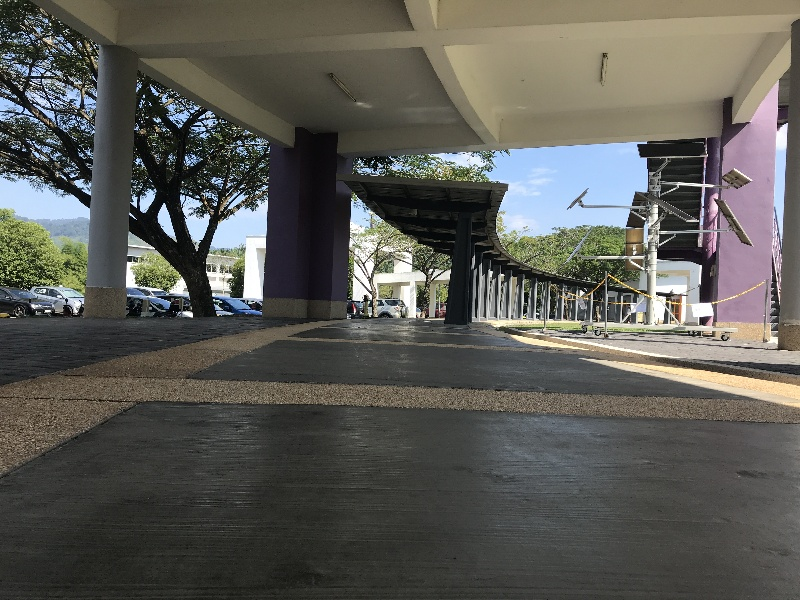Block D Pillar 5: (7, 4, 800, 539)
pillar: (707, 77, 784, 349), (263, 117, 348, 326), (79, 21, 137, 321), (438, 206, 476, 328)
